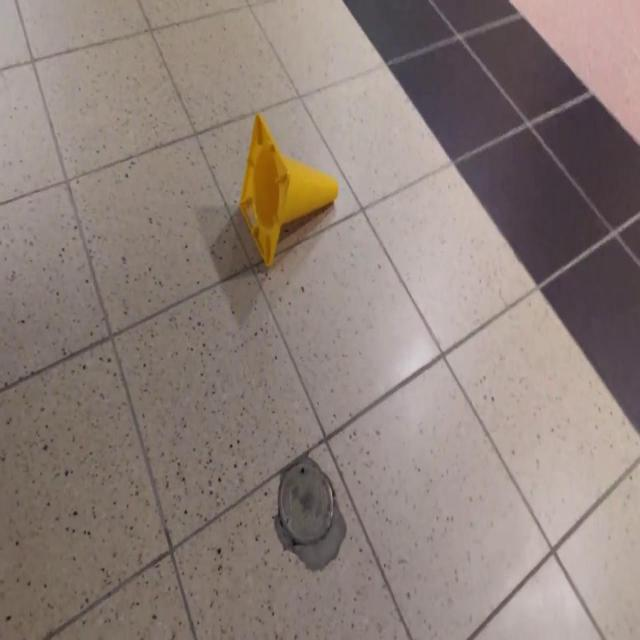frc_cone: (237, 113, 339, 269)
